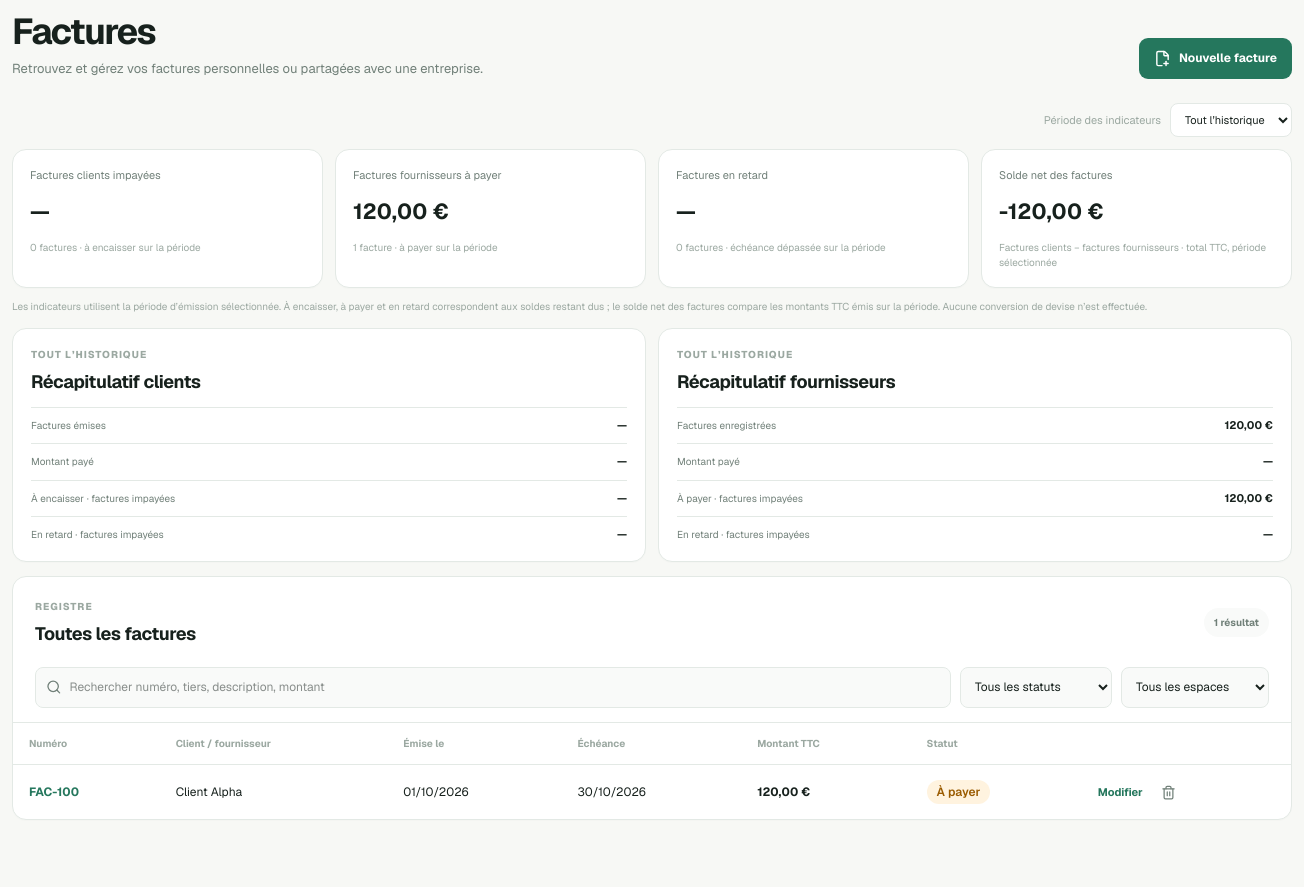
Test case: invoice manager › keeps supplier status changes on the existing payment-status action
Step 1. Click the button with aria-label "Statut À payer pour FAC-100" → coordinates (958, 792), box [926,780,990,804]
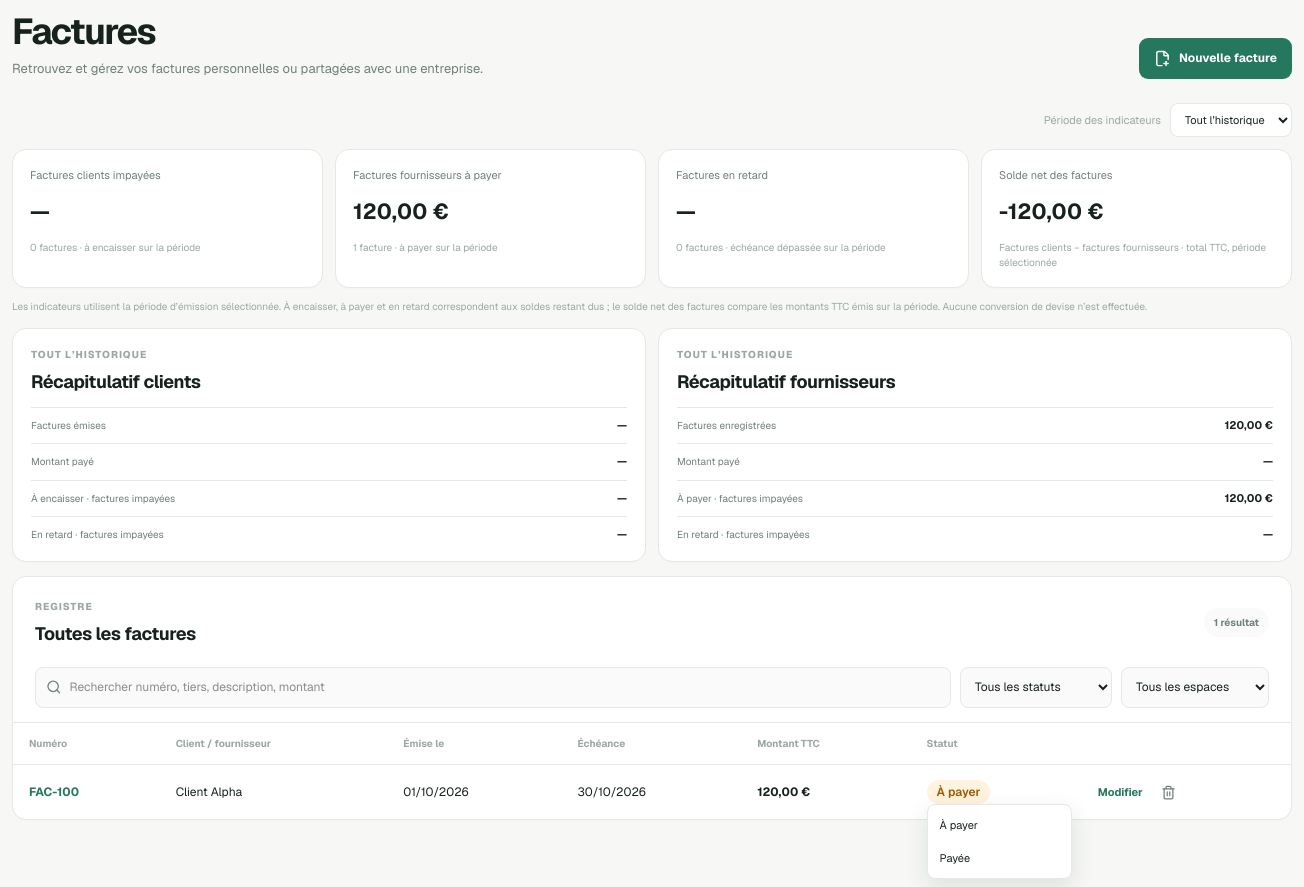
Step 2. Click the button "Payée" → coordinates (999, 858), box [932,842,1066,874]
(page scrolled)
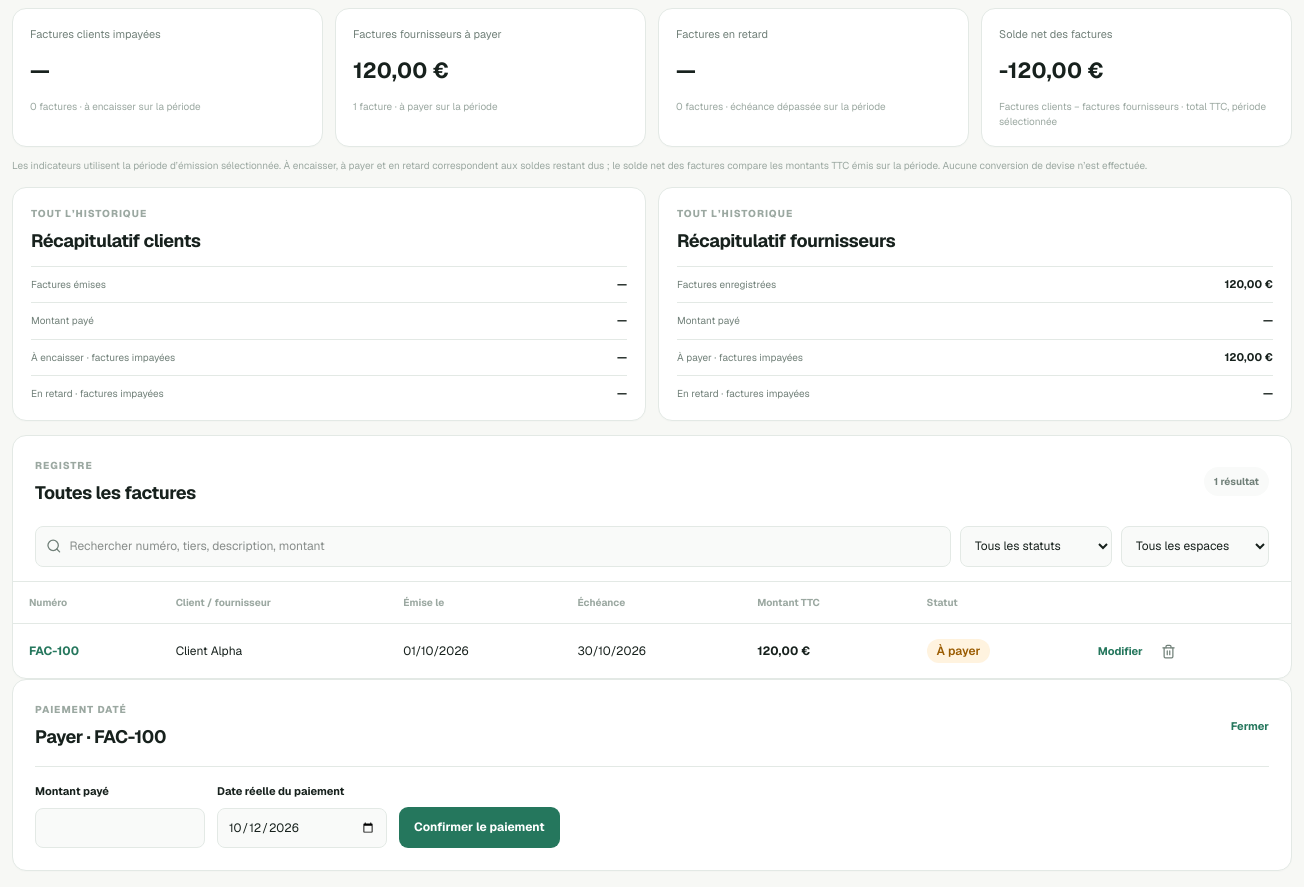
Expected: the heading "Payer · FAC-100" is shown, [35,724,166,750]
Expected: the date field labelled "Date réelle du paiement" is shown, [217,808,387,848]
